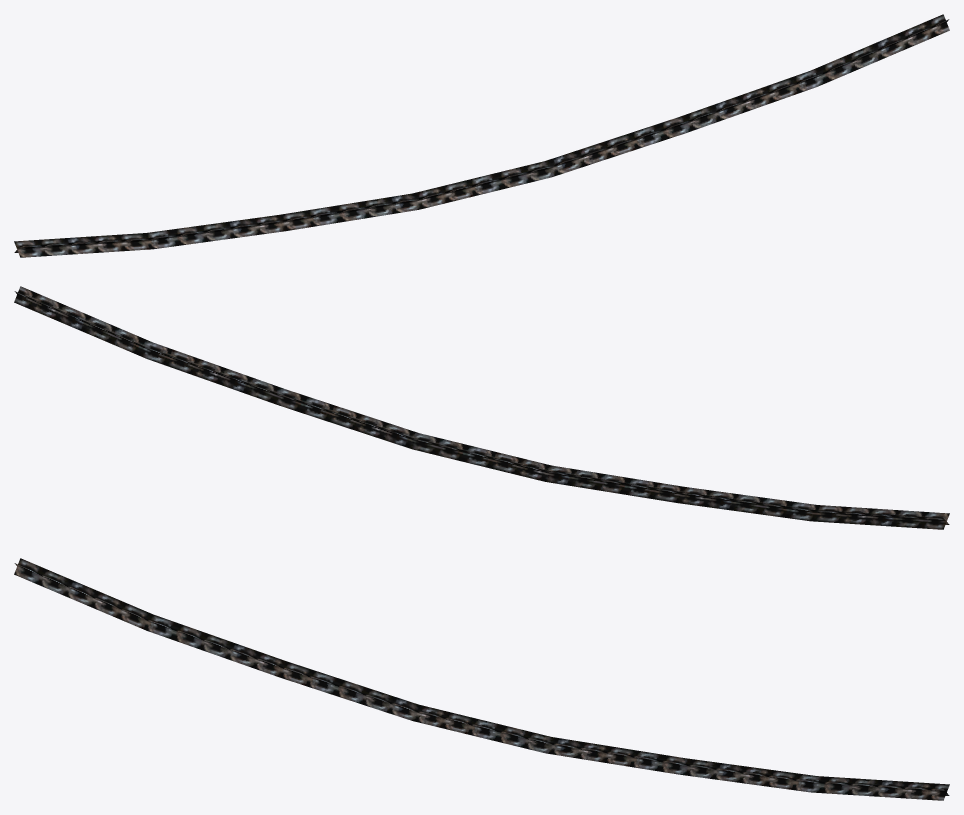
The model's file is environment_Building_yingdi_hantianta_002_d.FBX.
3 renders of one model, top to bottom at view 1: azimuth 30°, elevation 25°; view 2: azimuth 150°, elevation 25°; view 3: azimuth 330°, elevation 25°, orthographic.
Parts seen in each view (by area): view 1: environment_Building_yingdi_hantianta_002_d; view 2: environment_Building_yingdi_hantianta_002_d; view 3: environment_Building_yingdi_hantianta_002_d.
Boxes of the visible parts, box(x1,y1,x2,y2) form: environment_Building_yingdi_hantianta_002_d: box(14, 14, 949, 257); environment_Building_yingdi_hantianta_002_d: box(14, 286, 949, 529); environment_Building_yingdi_hantianta_002_d: box(14, 558, 949, 800).
Bounding box in the file's own units: 900 × 10.88 × 56.84.
